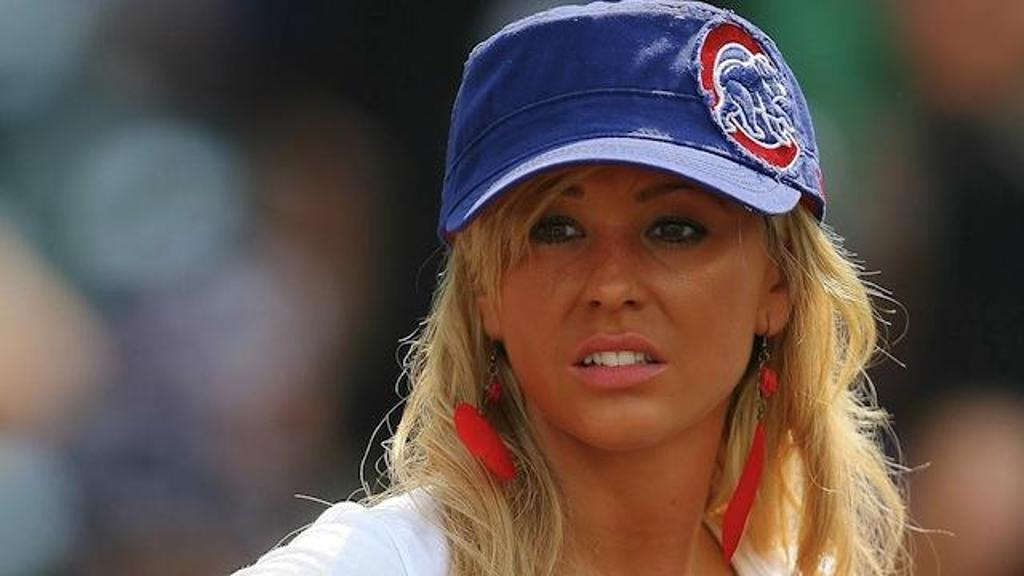face: (500, 138, 754, 450)
